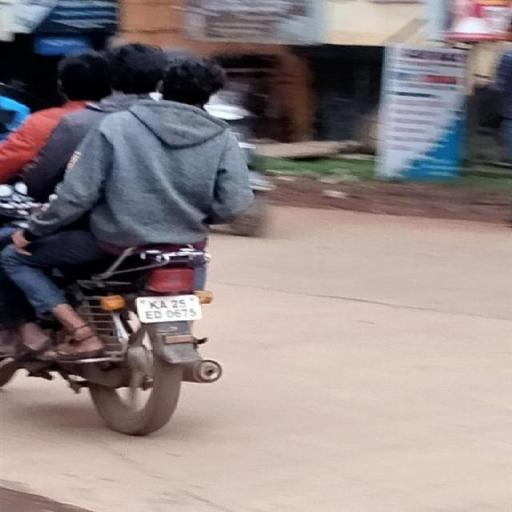tripple riding: (4, 40, 262, 252)
